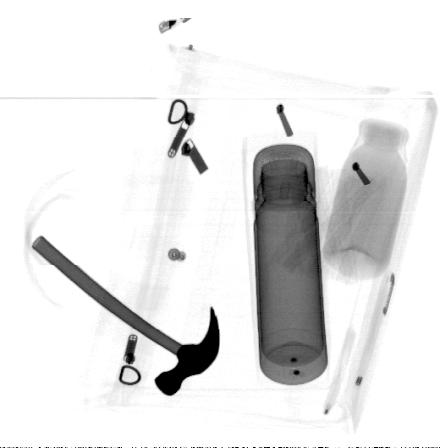Hammer: (31, 234, 221, 398)
